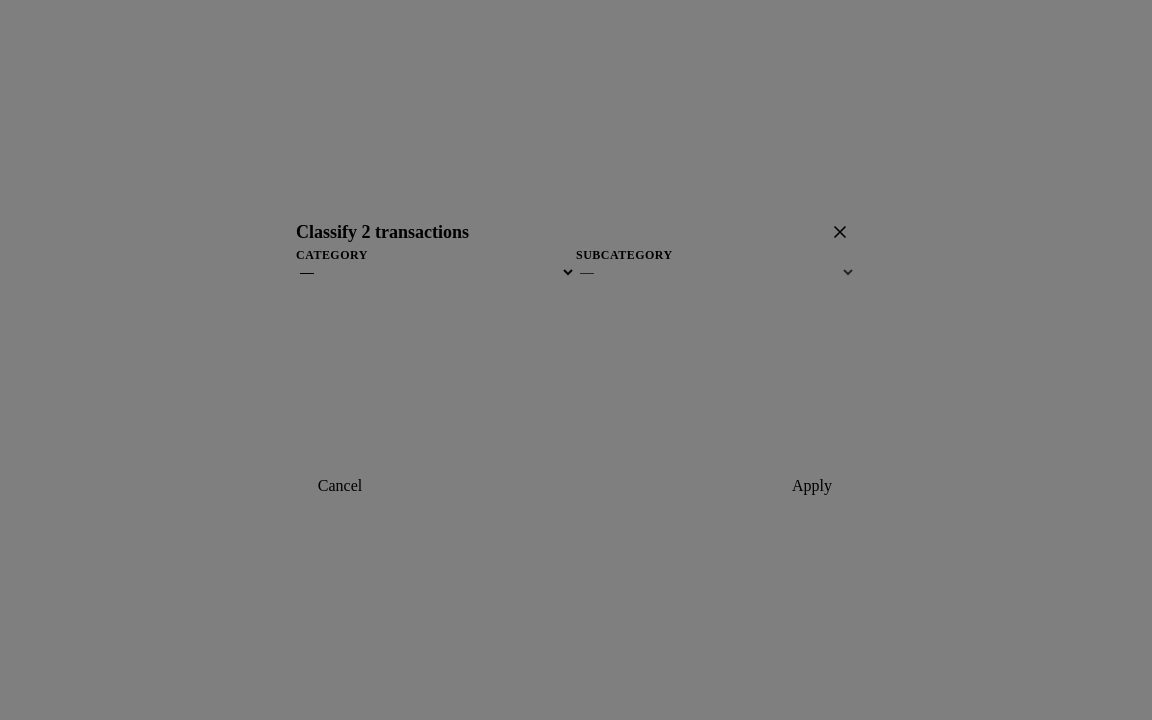
Test: BulkClassifyModal › disables the subcategory picker until a category is picked
Expected: the dropdown labelled "Subcategory" is disabled, [576,263,856,281]
Select "Payroll" in the dropdown labelled "Category" at (436, 272), box [296,263,576,281]
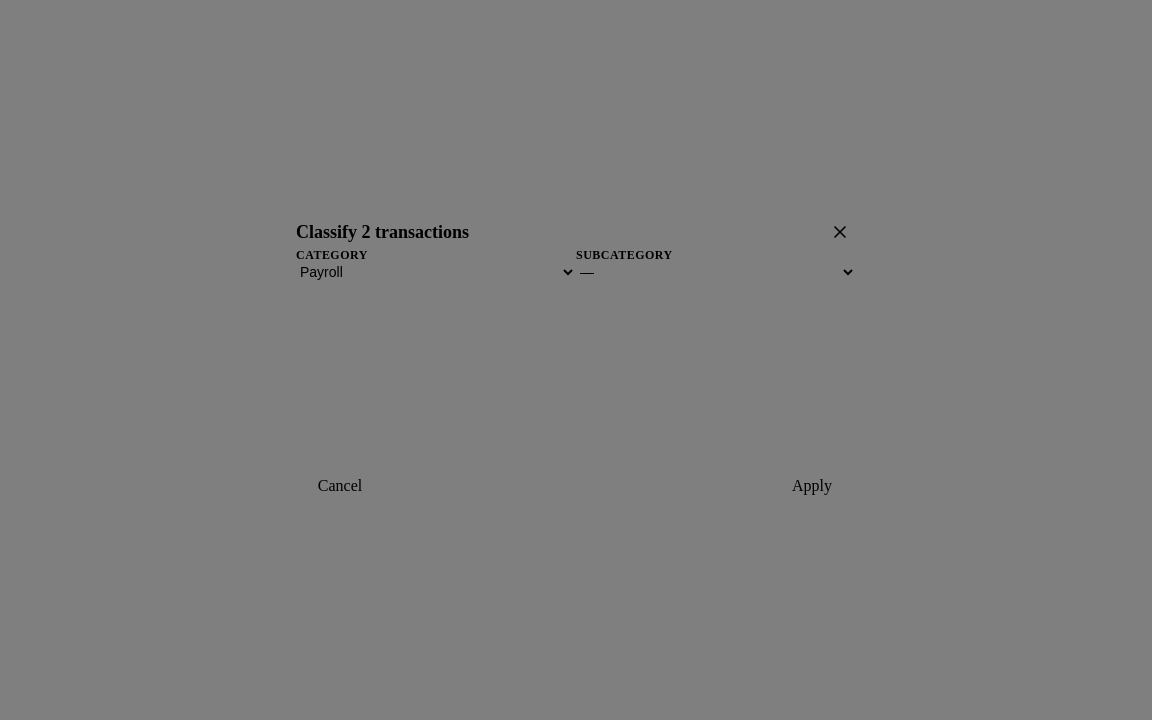
Expected: the dropdown labelled "Subcategory" is enabled, [576,263,856,281]
